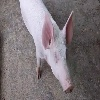heo: (34, 10, 76, 93)
